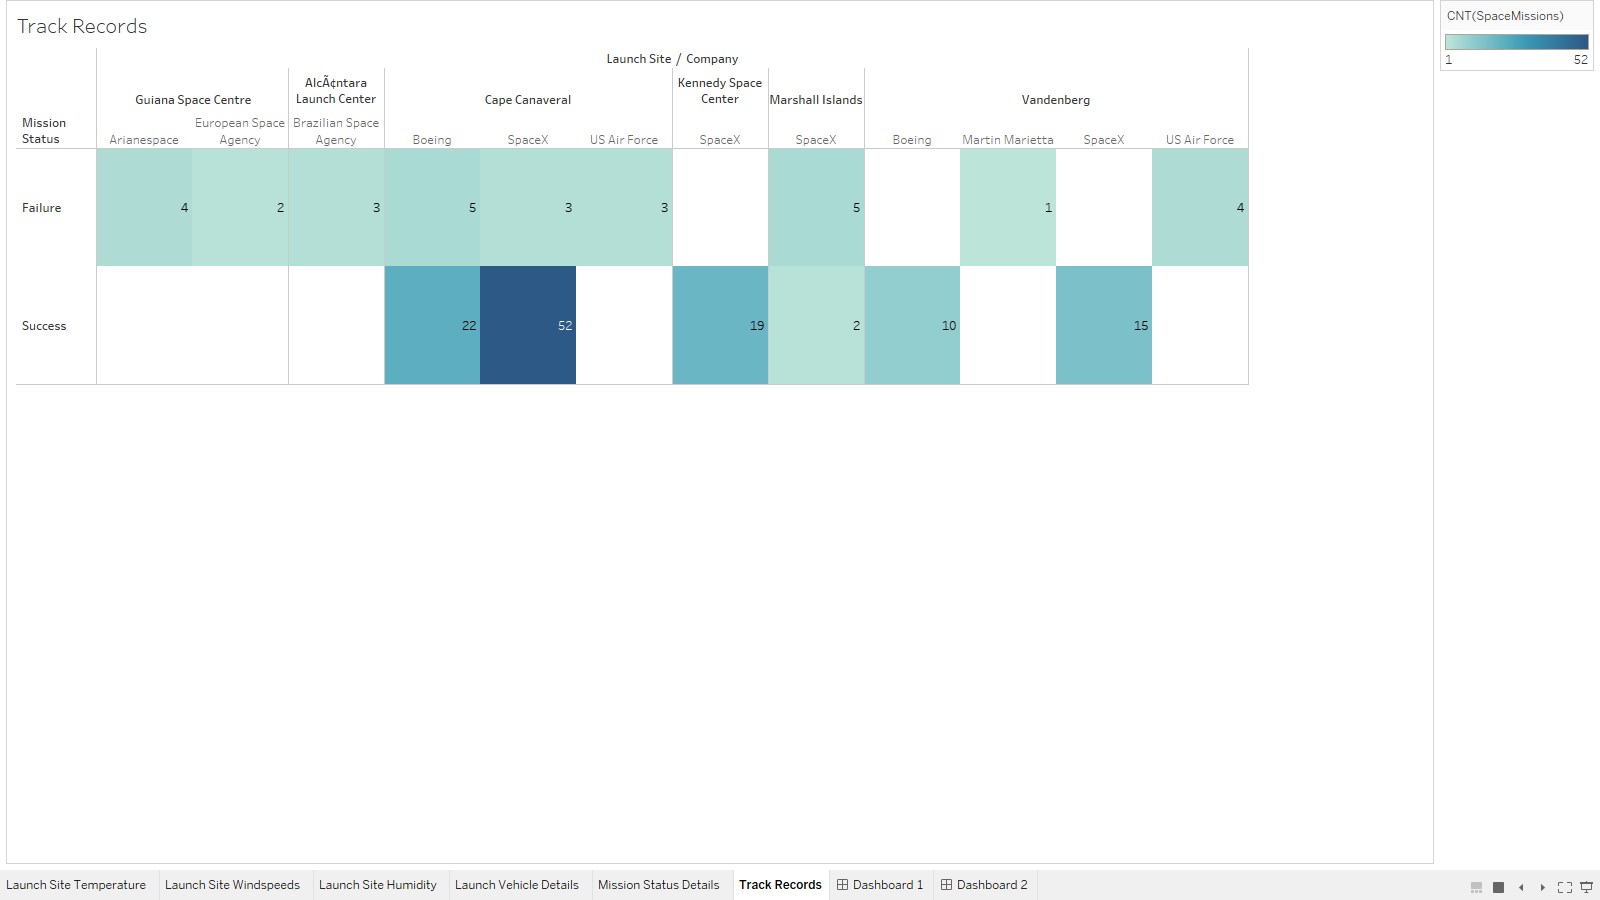

Layout of this report page (visuals, bound fields, positions):
{"tool":"tableau","page":{"name":"Dashboard 2","canvas":[1000,1000],"units":"permille","ordinal":1},"visuals":[{"type":"worksheet","title":"Launch Vehicle Details","mark":"Automatic","rows":["Rocket Height (m)"],"cols":["Company","Vehicle Type"],"box":[5.8,10.5,538.9,528.7]},{"type":"worksheet","title":"Mission Status Details","mark":"Automatic","rows":["Payload to Orbit (kg)"],"cols":["Company","Mission Status"],"box":[544.6,10.5,365.4,979.1]},{"type":"legend","title":"Launch Vehicle Details","param":"[federated.1jge4w916f9qkq1b7jlyw0vfbot0].[none:Company:nk]","box":[910,10.5,84.2,217.3]},{"type":"legend","title":"Track Records","param":"[federated.1jge4w916f9qkq1b7jlyw0vfbot0].[__tableau_internal_object_id__].[cnt:S","box":[910,227.8,84.2,85.1]},{"type":"worksheet","title":"Track Records","mark":"Square","rows":["Mission Status"],"cols":["Launch Site","Company"],"box":[5.8,539.2,538.9,450.3]}]}

Visuals, with their boxes on the dashboard's canvas, which has no fixed pixel size, in thousandths of its width and height (x1, y1, x2, y2). These are canvas units, not pixel positions in the 1600x900 screenshot, which may show the page scaled, cropped or inside an application window:
"Launch Vehicle Details" worksheet: rect(6, 10, 545, 539)
"Mission Status Details" worksheet: rect(545, 10, 910, 990)
"Launch Vehicle Details" legend: rect(910, 10, 994, 228)
"Track Records" legend: rect(910, 228, 994, 313)
"Track Records" worksheet (Square marks): rect(6, 539, 545, 990)
